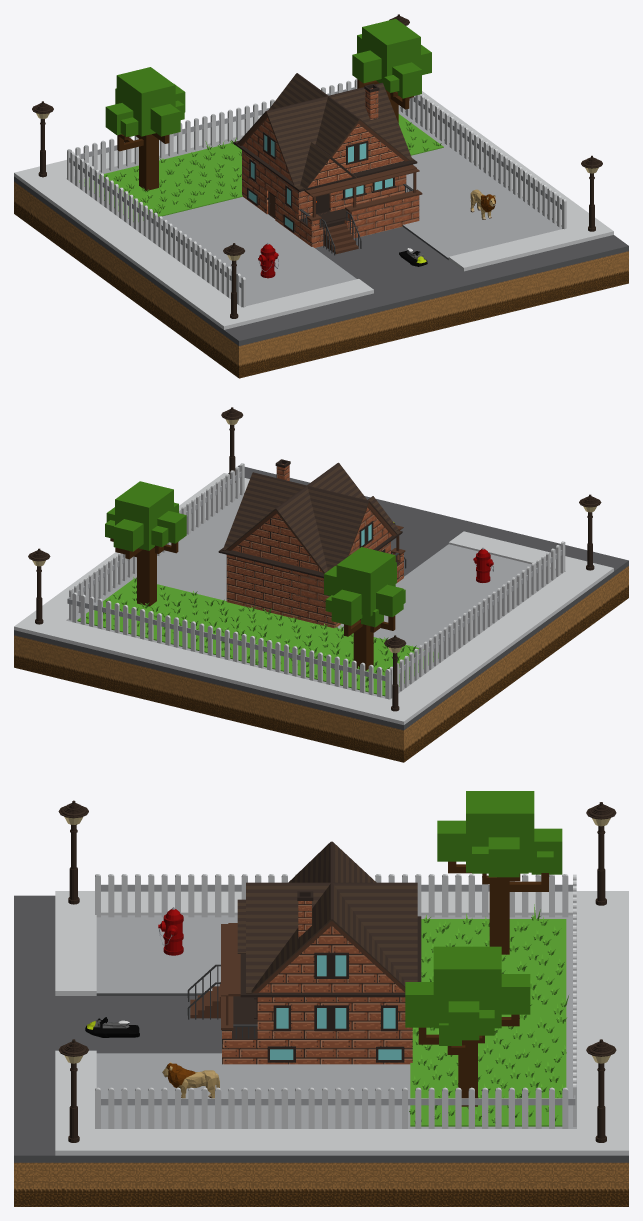
The picture shows the model from 3 angles, top to bottom: view 1: azimuth 30°, elevation 25°; view 2: azimuth 150°, elevation 25°; view 3: azimuth 270°, elevation 25°; orthographic projection. The views are drawn at different scales.
Visible parts, largest first — view 1: Cube.004, Cube.469, OBJRANDOM_FIRE_HYDRANT, ANIMAL_LEON; view 2: Cube.004, Cube.469, OBJRANDOM_FIRE_HYDRANT; view 3: Cube.004, Cube.469, ANIMAL_LEON, OBJRANDOM_FIRE_HYDRANT, VEHICLES_WATERBIKE.
Boxes of the visible parts, x1,y1,x2,y2 form: Cube.004: (14, 14, 628, 378); Cube.469: (233, 73, 422, 255); OBJRANDOM_FIRE_HYDRANT: (258, 243, 278, 278); ANIMAL_LEON: (470, 189, 495, 219); Cube.004: (14, 407, 628, 762); Cube.469: (218, 459, 406, 627); OBJRANDOM_FIRE_HYDRANT: (473, 547, 493, 582); Cube.004: (14, 791, 628, 1206); Cube.469: (187, 841, 421, 1064); ANIMAL_LEON: (162, 1062, 219, 1098); OBJRANDOM_FIRE_HYDRANT: (158, 907, 183, 955); VEHICLES_WATERBIKE: (85, 1017, 139, 1037).
Bounding box in the file's own units: 4000 × 1579 × 4000.
30 materials, 4 textured.
